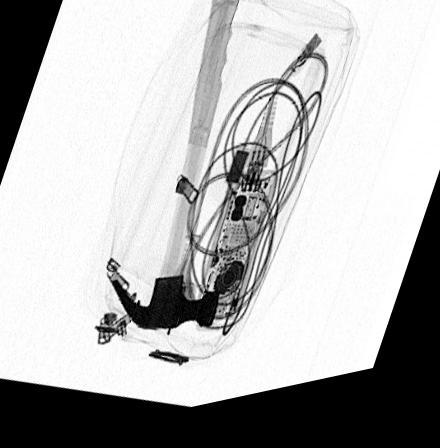Hammer: (106, 0, 243, 336)
